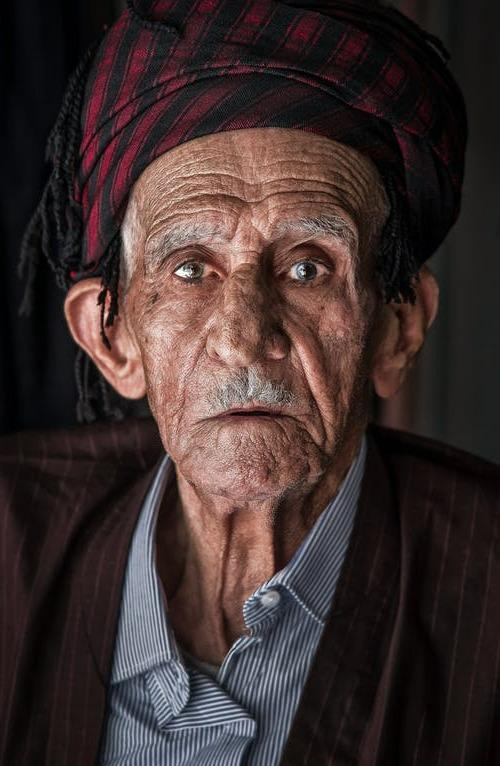Wrinkles: (182, 172, 362, 212), (150, 190, 345, 224), (292, 153, 368, 198), (146, 210, 236, 239), (317, 141, 370, 178), (321, 145, 369, 184), (159, 155, 221, 182), (330, 170, 364, 203), (266, 202, 345, 215), (247, 162, 341, 169), (252, 223, 261, 244), (229, 222, 237, 239)
